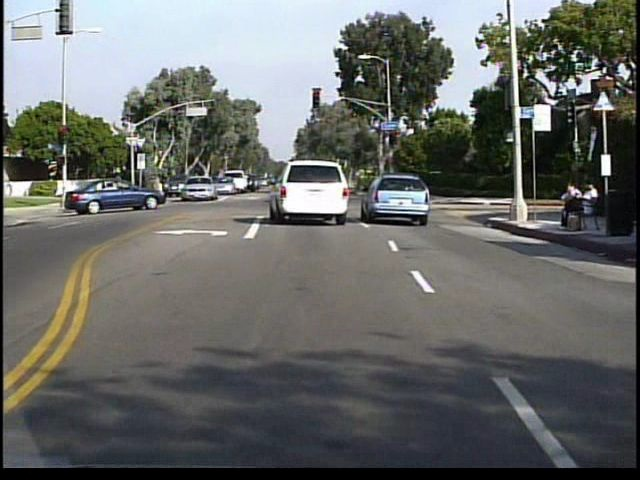person: (557, 179, 584, 231), (579, 179, 602, 233)
